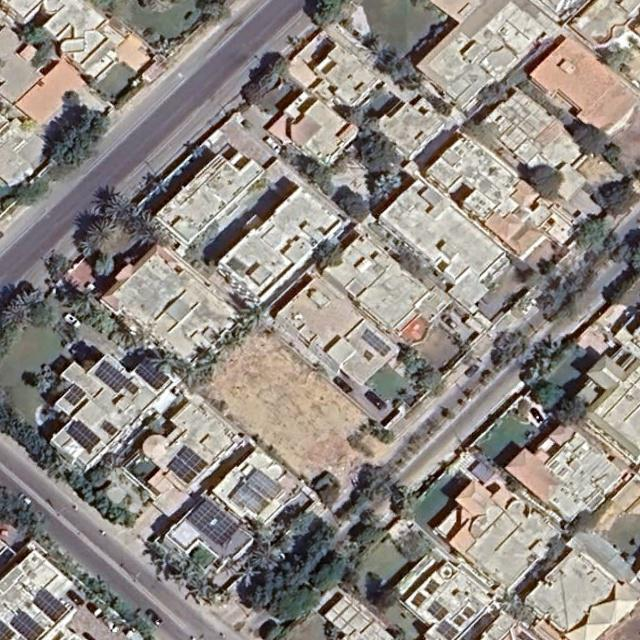solar panel: (183, 494, 245, 551), (231, 464, 287, 520), (165, 441, 210, 487), (30, 587, 70, 625), (93, 358, 130, 394), (66, 417, 102, 453), (133, 356, 170, 391), (8, 607, 46, 640), (357, 326, 395, 359), (63, 382, 89, 409), (424, 598, 450, 624), (98, 416, 123, 442), (435, 618, 462, 640), (421, 576, 443, 599), (407, 590, 428, 612), (459, 603, 478, 621), (451, 612, 467, 628)
